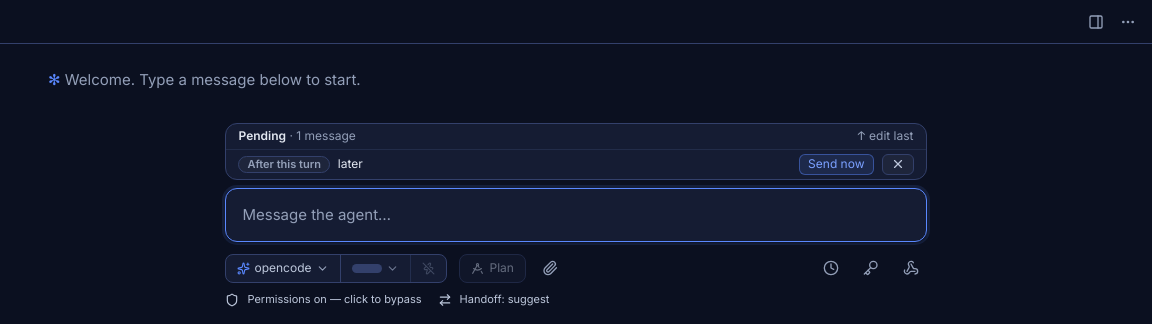
Scenario: ChatPanel busy send + inbox › pending card (v2-next) › Send now → N1 steer; changed needs nothing more (no banner, no toast)
Click the button with test id "inbox-send-now": (836, 164) [799,154,874,175]
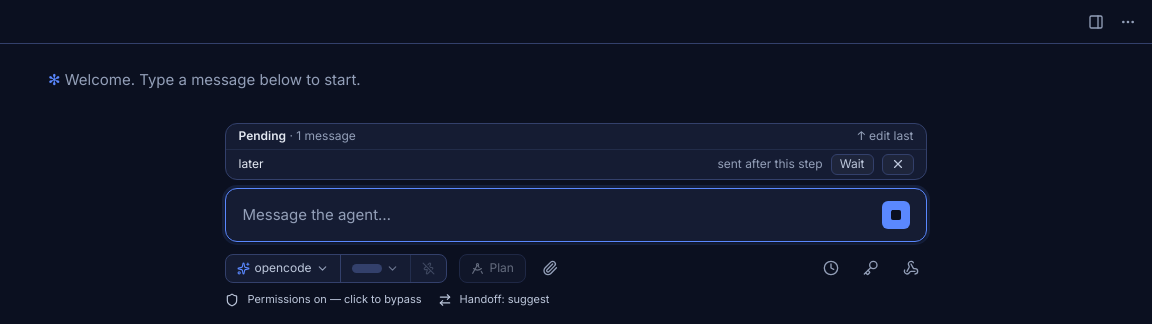
Expected: the button with test id "inbox-send-now" is shown, [831,154,874,175]
Result: the text with test id "inbox-badge" is gone
